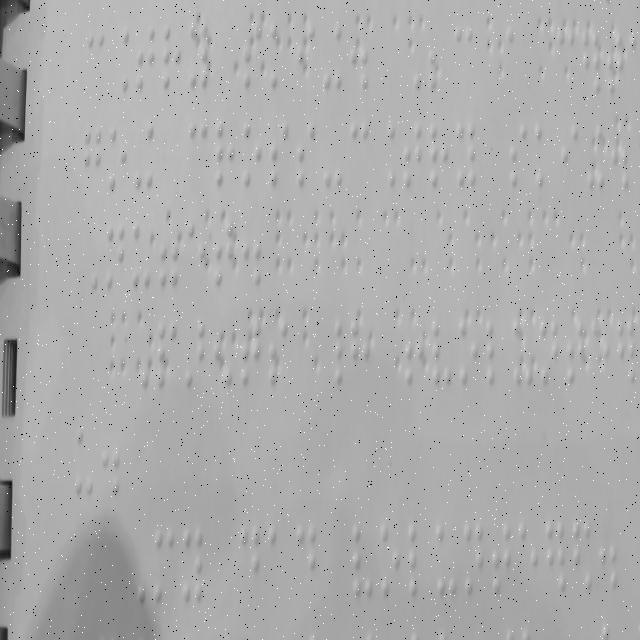A: (267, 516, 292, 609)
C: (347, 114, 372, 194), (84, 24, 108, 104), (187, 114, 210, 194)
D: (237, 514, 264, 612), (294, 516, 320, 610)
E: (516, 516, 542, 605)
G: (81, 121, 104, 203)
I: (561, 112, 582, 198)
K: (534, 116, 556, 205)
L: (406, 512, 430, 610)
M: (153, 523, 176, 610)
N: (464, 518, 487, 605), (104, 216, 128, 296)
O: (378, 512, 404, 606), (238, 116, 264, 196), (106, 120, 130, 206)
R: (428, 116, 452, 192), (161, 20, 184, 99), (214, 114, 236, 194)
S: (294, 114, 318, 200), (506, 120, 531, 198), (268, 118, 290, 200)
T: (490, 518, 516, 604), (401, 112, 424, 196), (136, 22, 158, 100)
U: (431, 512, 462, 611), (73, 422, 94, 504), (132, 216, 152, 294)
V: (348, 512, 376, 606)
Y: (180, 522, 206, 610), (456, 116, 480, 197), (187, 18, 211, 98)
